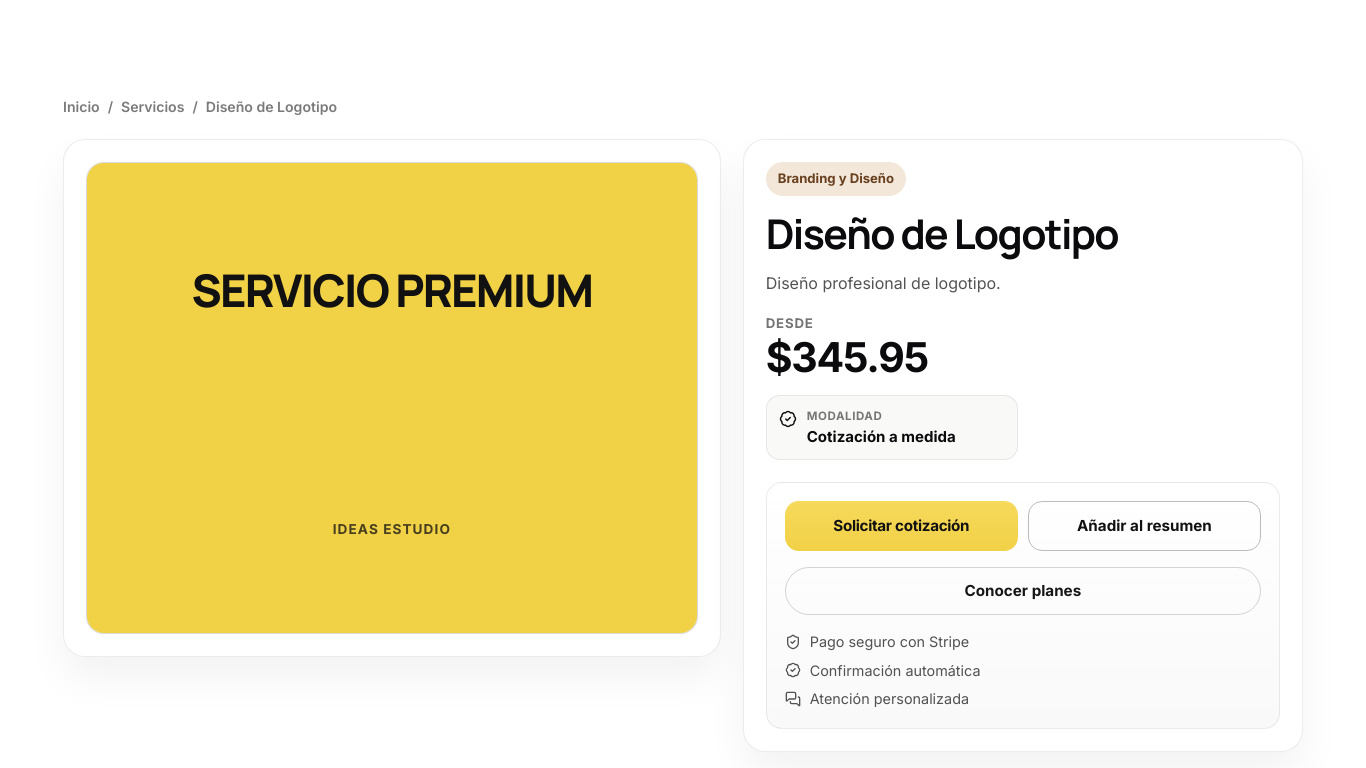
Test case: ProductDetailPage — 'Conocer planes' button › closing the modal removes it from the DOM
expect the heading "Diseño de Logotipo" is shown: met, box [766, 205, 1118, 261]
Click the button with class "service-detail-purchase__plans-btn". click: (1023, 591)
box: [785, 567, 1261, 615]
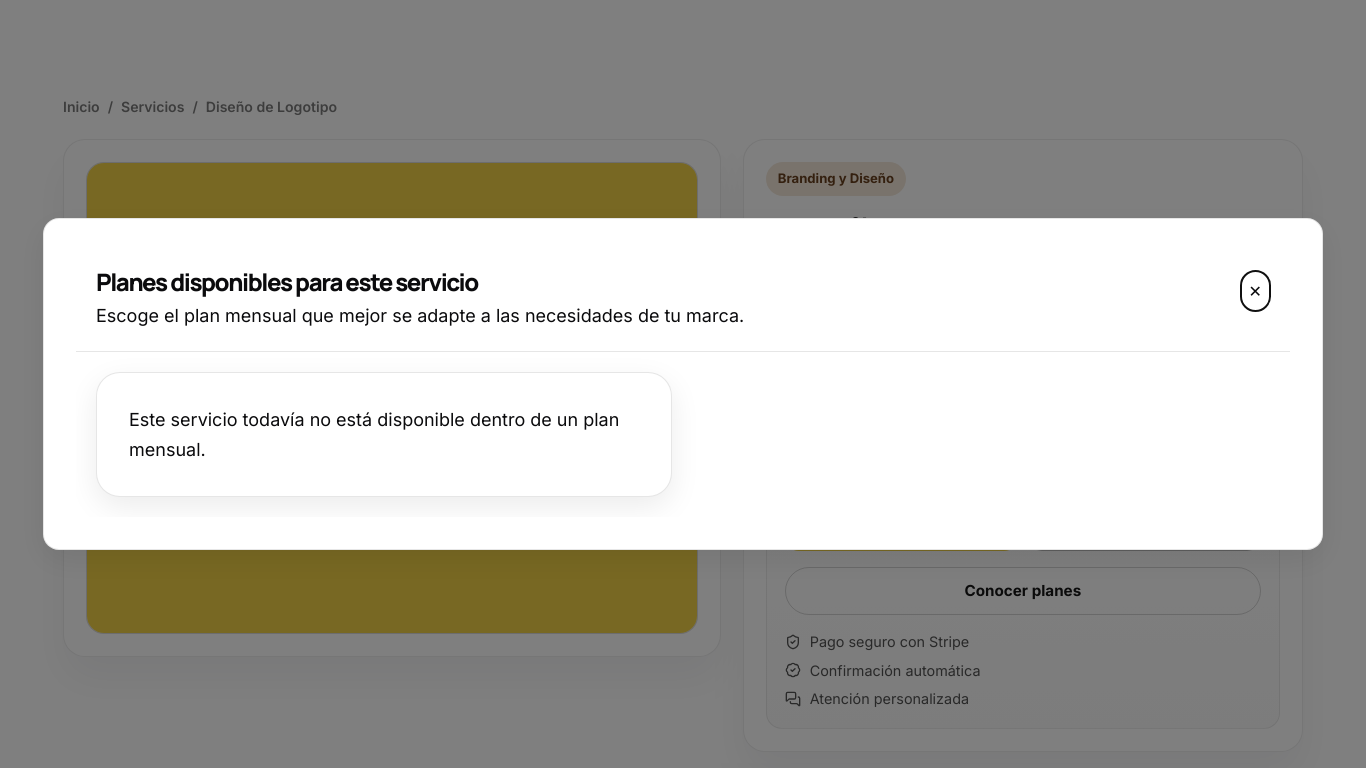
expect the dialog is shown: met, box [43, 218, 1323, 550]
Click the button named "Cerrar planes de". click: (1255, 291)
box: [1241, 271, 1270, 311]
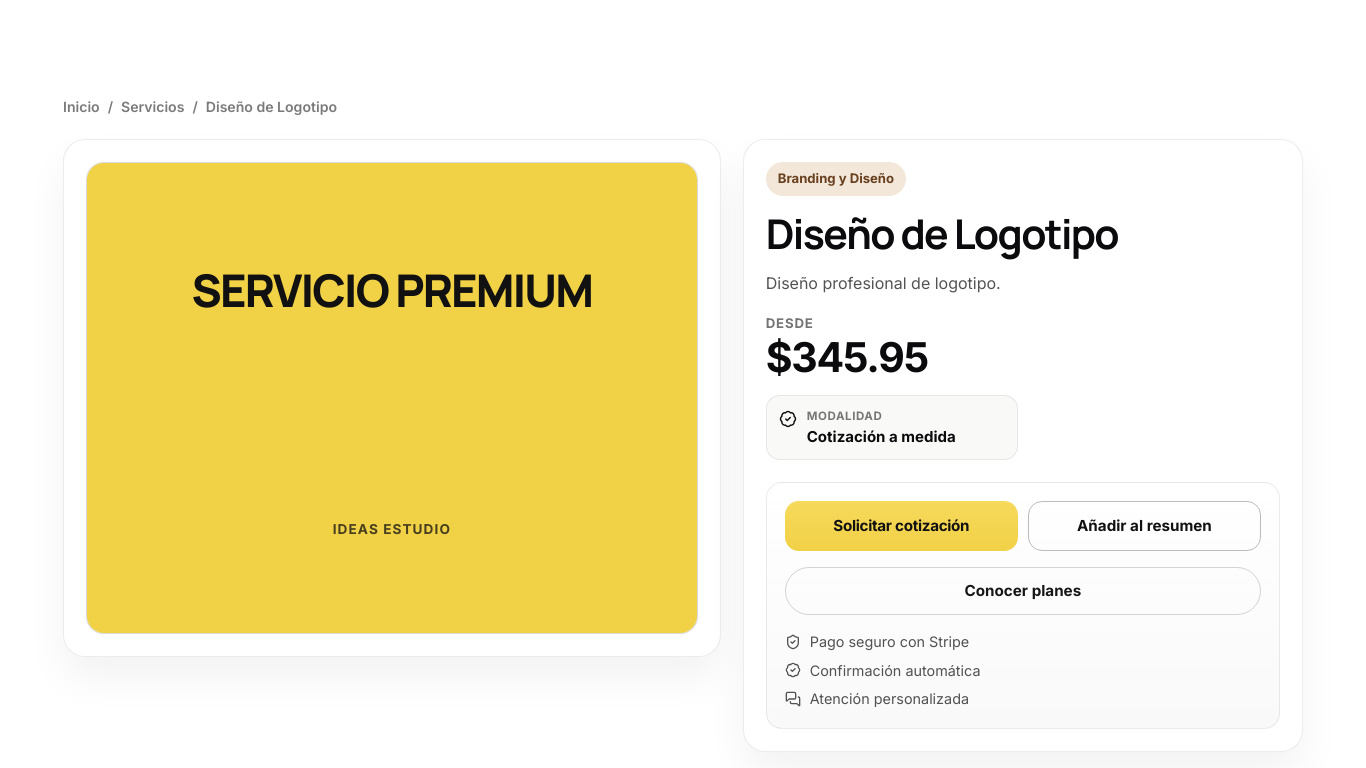
expect the dialog is gone: met
